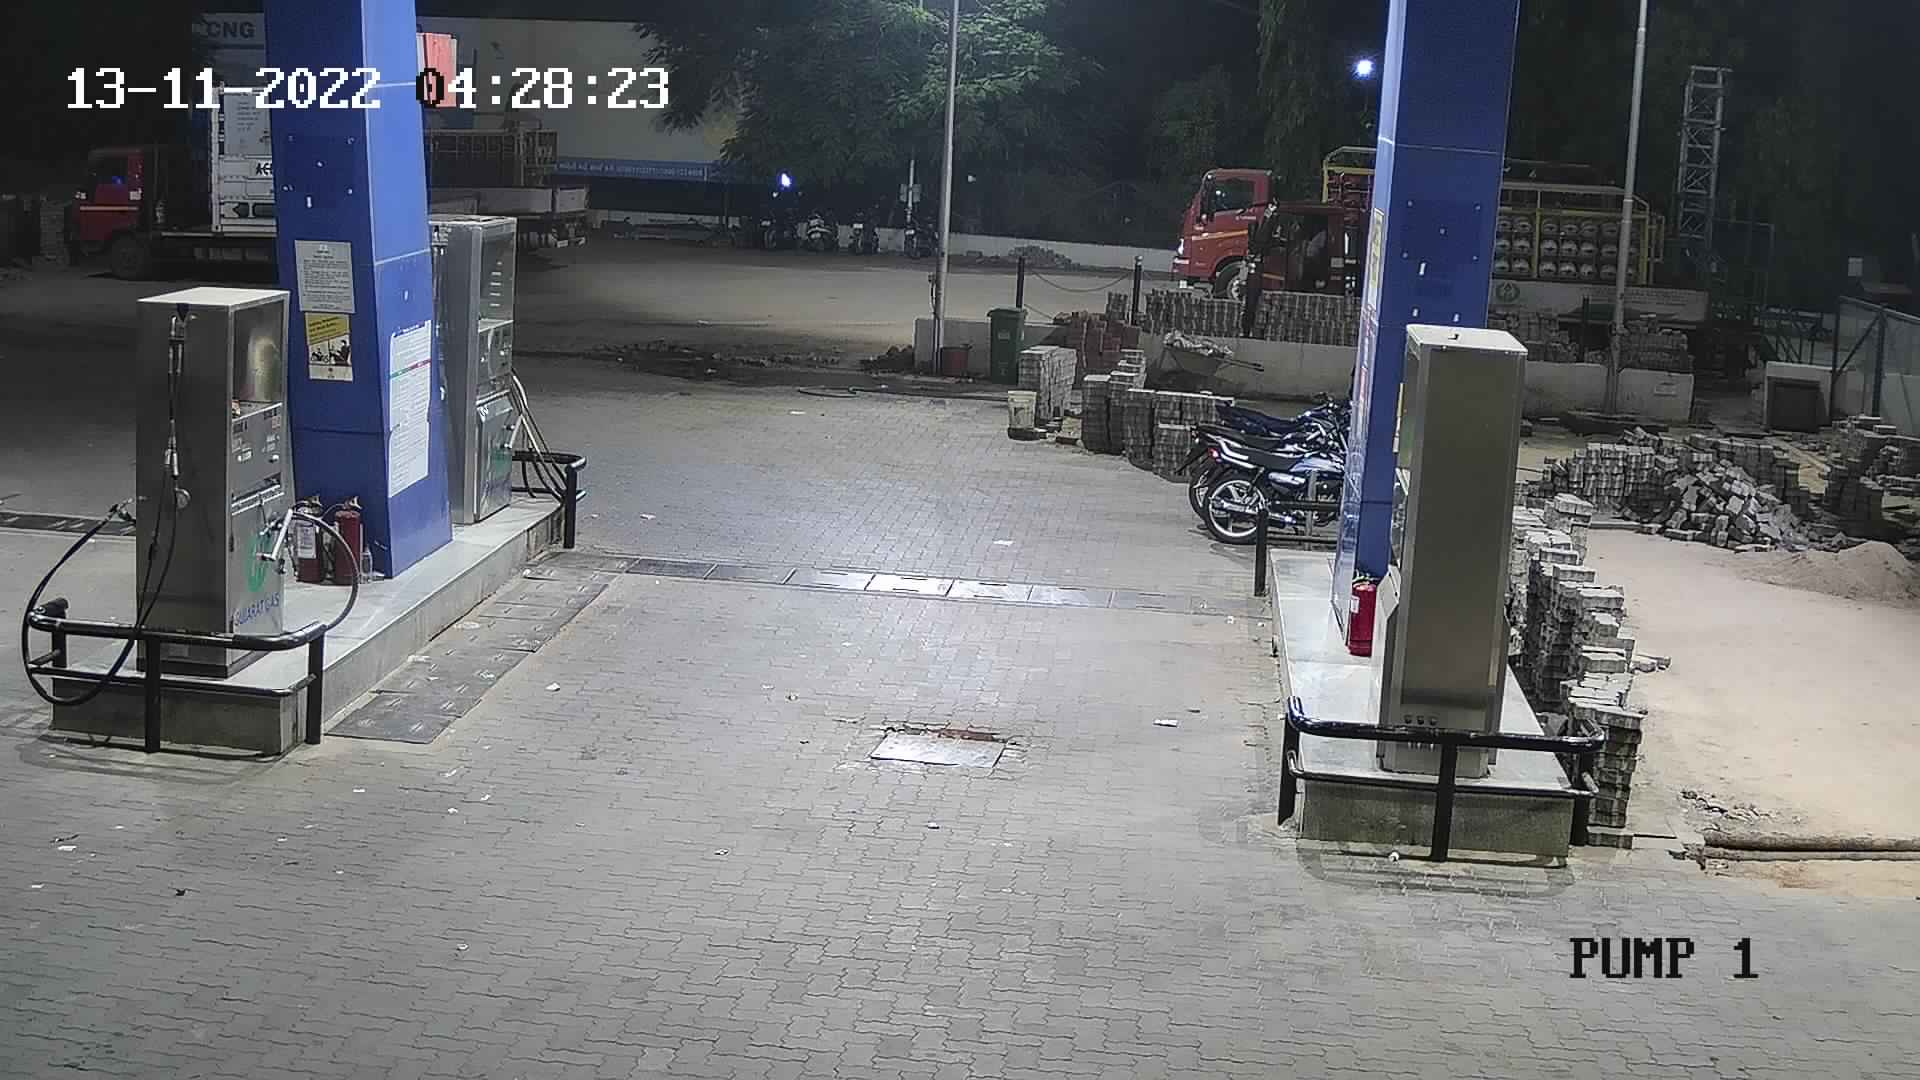Bike: (1174, 385, 1358, 564), (746, 177, 812, 255), (891, 186, 943, 266), (845, 189, 895, 262), (796, 187, 847, 257)
HMV: (50, 76, 287, 285), (1159, 135, 1375, 339), (411, 83, 605, 266), (1220, 179, 1367, 339)
